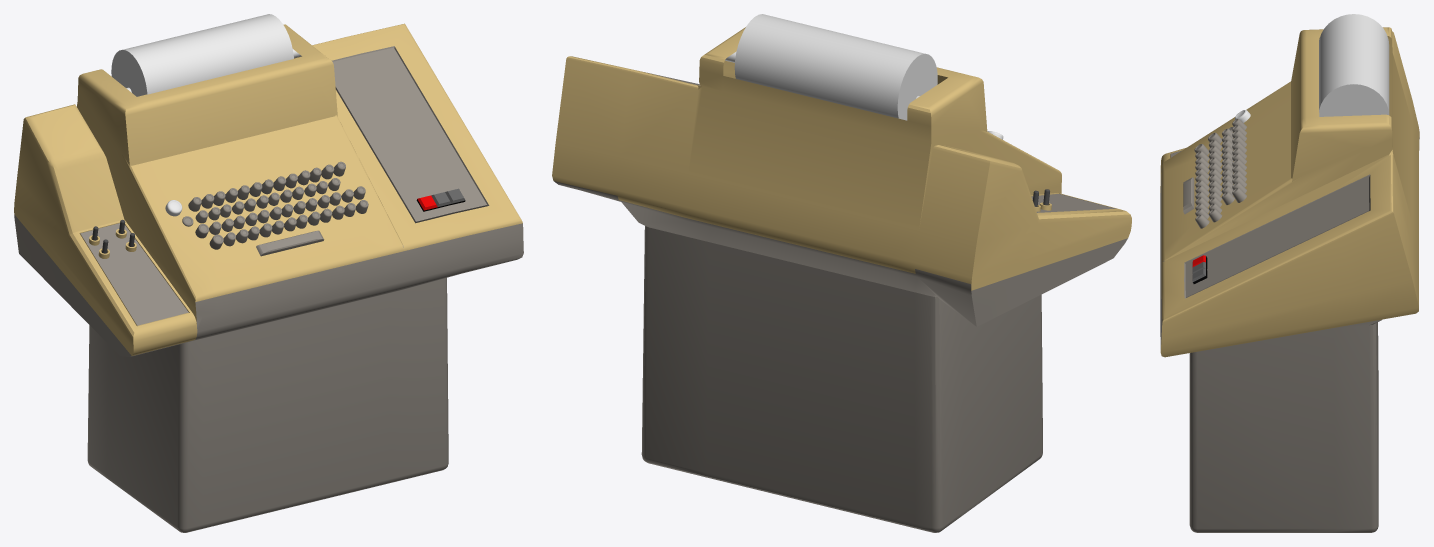
Rendered from Teletipo.fbx.
3 renders of one model, left to right at view 1: azimuth 30°, elevation 25°; view 2: azimuth 150°, elevation 25°; view 3: azimuth 270°, elevation 25°, orthographic. The views are drawn at different scales.
Parts seen in each view (by area): view 1: Cube, Cylinder.054, Cube.002, Cube.001; view 2: Cube, Cylinder.054; view 3: Cube, Cylinder.054, Cube.002, Cube.001.
Part boxes in pixels (x1,y1,x2,y2): Cube: (14,23,523,532); Cylinder.054: (111,14,293,96); Cube.002: (256,230,324,256); Cube.001: (416,188,465,211); Cube: (552,27,1131,532); Cylinder.054: (734,14,937,120); Cube: (1160,27,1419,532); Cylinder.054: (1319,14,1389,116); Cube.002: (1183,177,1194,214); Cube.001: (1192,255,1207,283).
Size of the model in its own units: 26.8 by 27.26 by 15.72.
